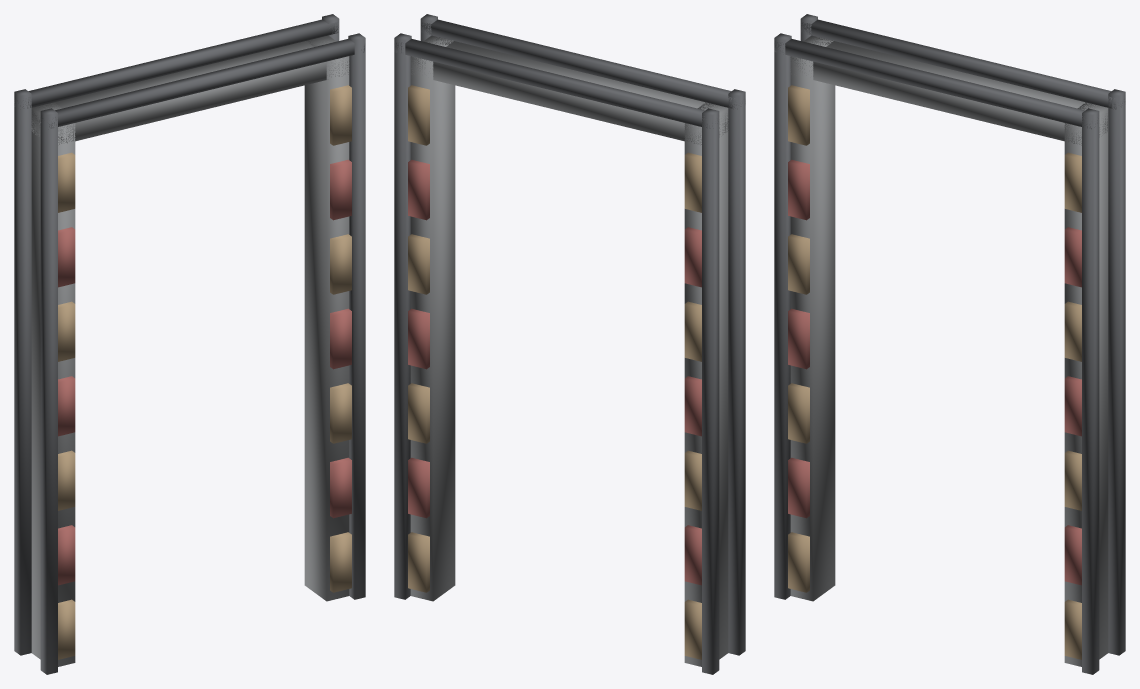
File: doorway_brick_return_w106_h210_d16.glb
The picture shows the model from 3 angles, left to right: view 1: azimuth 30°, elevation 25°; view 2: azimuth 150°, elevation 25°; view 3: azimuth 330°, elevation 25°; orthographic projection.
Visible parts, largest first — view 1: world; view 2: world; view 3: world.
Part boxes in pixels (x1,y1,x2,y2): world: (14, 14, 365, 674); world: (394, 14, 745, 674); world: (774, 14, 1125, 674).
Size of the model in its own units: 1.34 by 2.25 by 0.2378.
